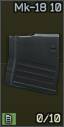Mk-18 .338 LM 10-round magazine: (0, 0, 64, 127)
